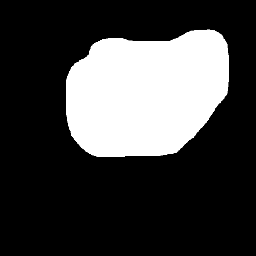mass: (65, 35, 225, 139)
